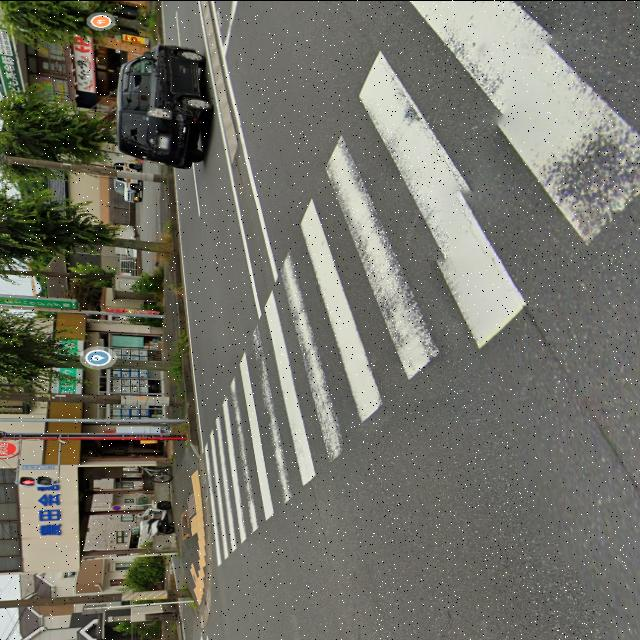traffic-light: (20, 472, 58, 489)
